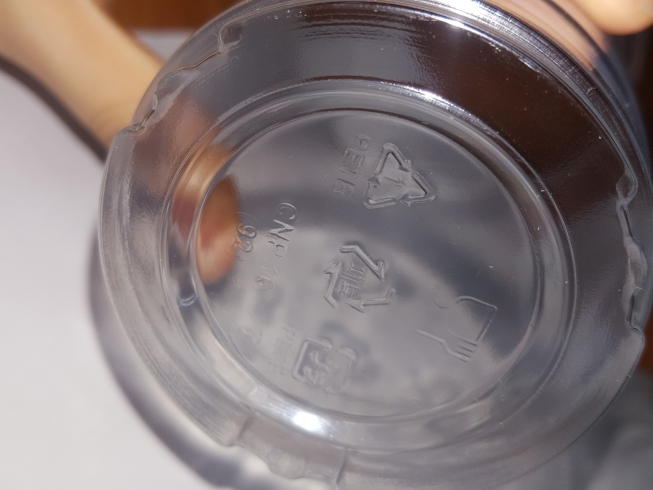recycle: (335, 122, 445, 221)
